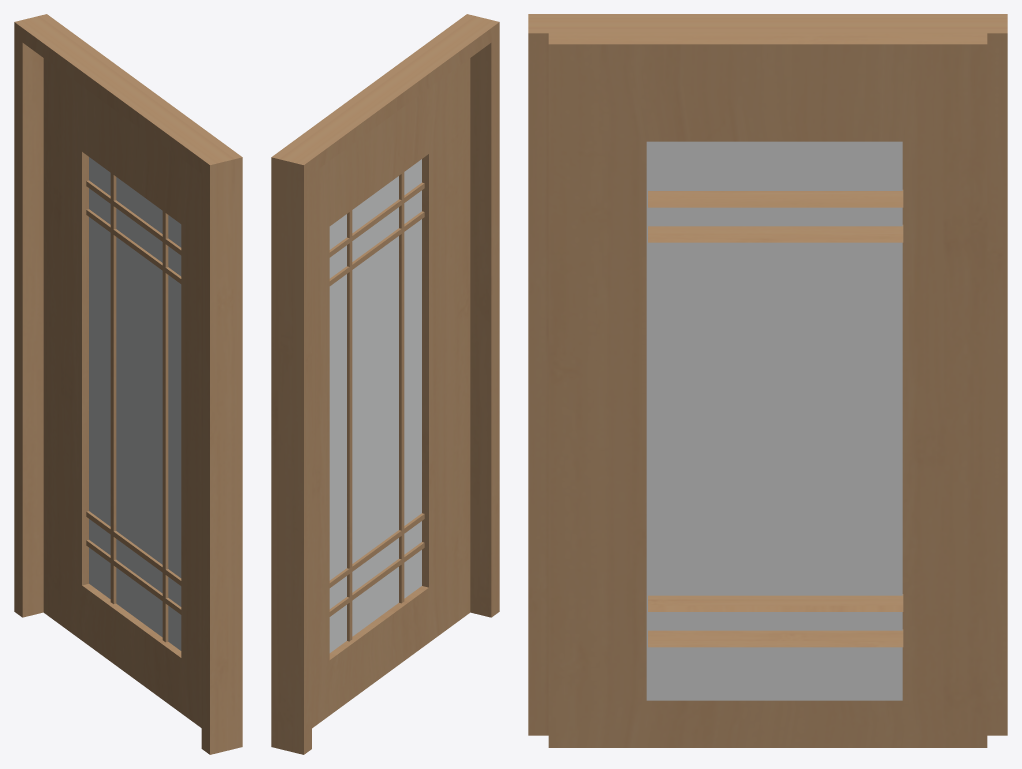
Rendered from M_woshimen03.FBX.
3 views of the same model, side by side, from view 1: azimuth 30°, elevation 25°; view 2: azimuth 150°, elevation 25°; view 3: azimuth 270°, elevation 25° (orthographic). The views are drawn at different scales.
Visible parts, largest first — view 1: M_woshimen03_01, M_woshimen03_02; view 2: M_woshimen03_01, M_woshimen03_02; view 3: M_woshimen03_01, M_woshimen03_02.
Boxes of the visible parts, x1=… form: M_woshimen03_01: x1=14, y1=14, x2=242, y2=754; M_woshimen03_02: x1=89, y1=157, x2=181, y2=650; M_woshimen03_01: x1=271, y1=14, x2=499, y2=754; M_woshimen03_02: x1=329, y1=159, x2=421, y2=652; M_woshimen03_01: x1=528, y1=14, x2=1007, y2=747; M_woshimen03_02: x1=646, y1=141, x2=902, y2=700.
Bounding box in the file's own units: 0.2266 × 2.84 × 1.71.
